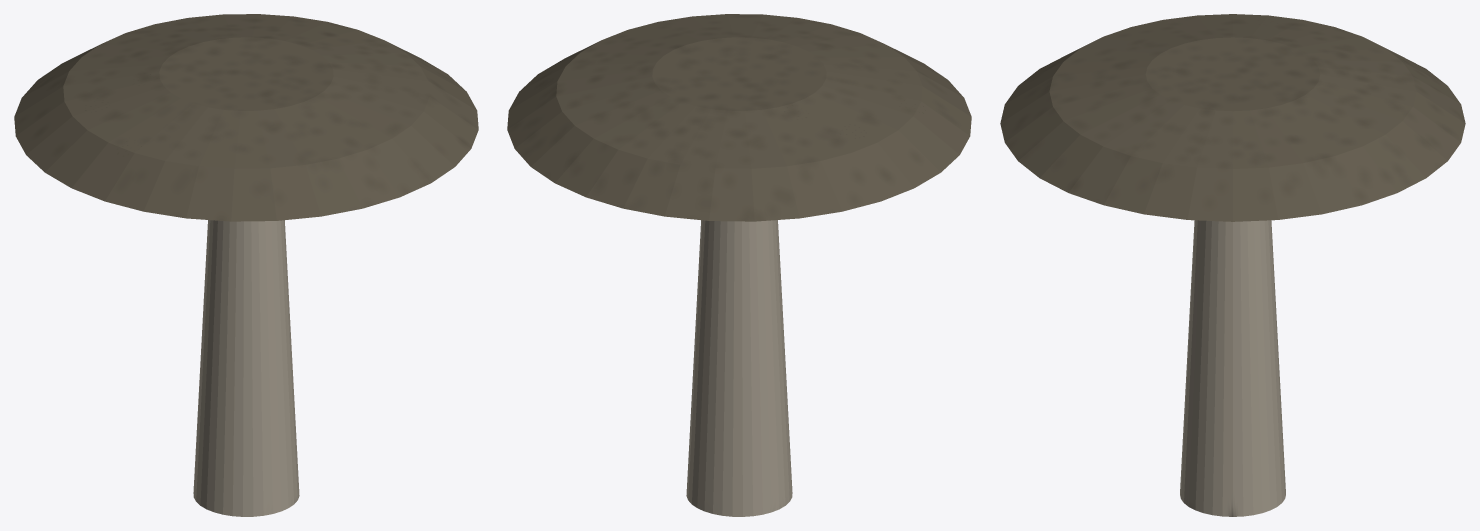
The model's file is Mushfbx.fbx.
3 renders of one model, left to right at view 1: azimuth 30°, elevation 25°; view 2: azimuth 150°, elevation 25°; view 3: azimuth 270°, elevation 25°, orthographic.
Visible parts, largest first — view 1: 円柱; view 2: 円柱; view 3: 円柱.
Part boxes in pixels (bbox=[...]): 円柱: bbox=[14, 14, 478, 516]; 円柱: bbox=[507, 14, 971, 516]; 円柱: bbox=[1000, 14, 1465, 516].
Bounding box in the file's own units: 349 × 354 × 349.
